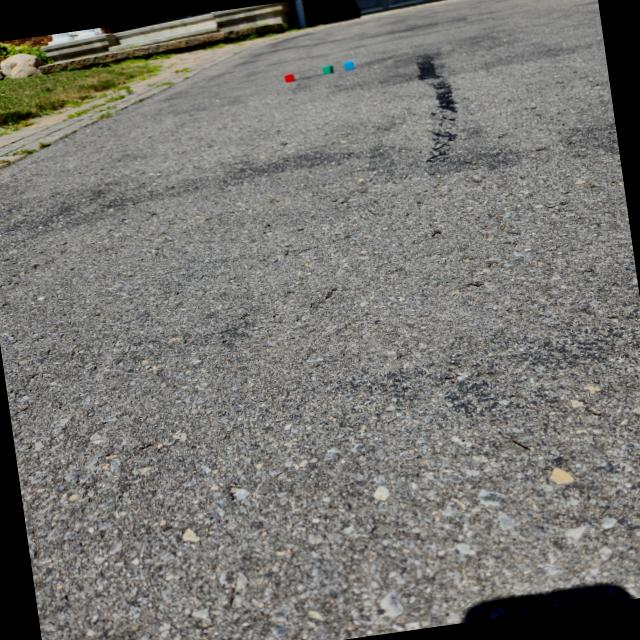bluecube: (345, 60, 355, 70)
green cube: (322, 64, 334, 74)
red cube: (284, 74, 295, 83)
